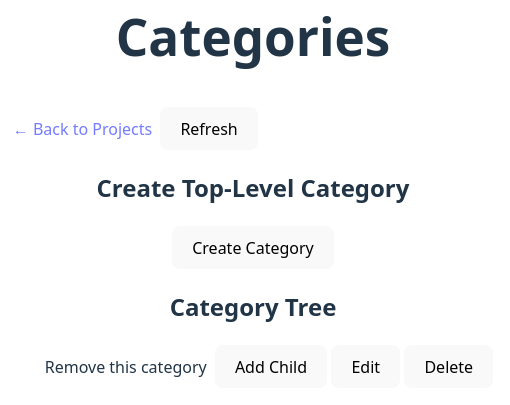
Categories page › deletes a category
expect the text "Remove this category" is shown: met, box [45, 355, 207, 379]
Click the button "Delete": {"x": 449, "y": 367} [404, 345, 493, 388]
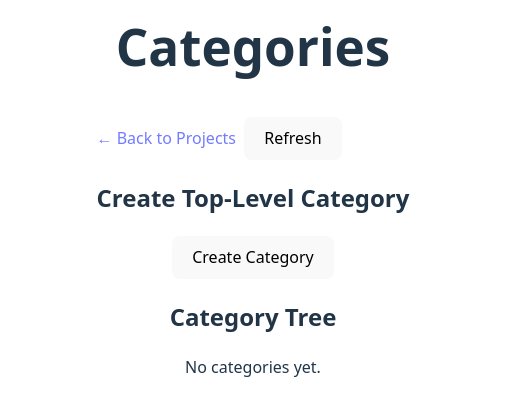
expect the text "No categories yet." is shown: met, box [185, 356, 321, 378]
